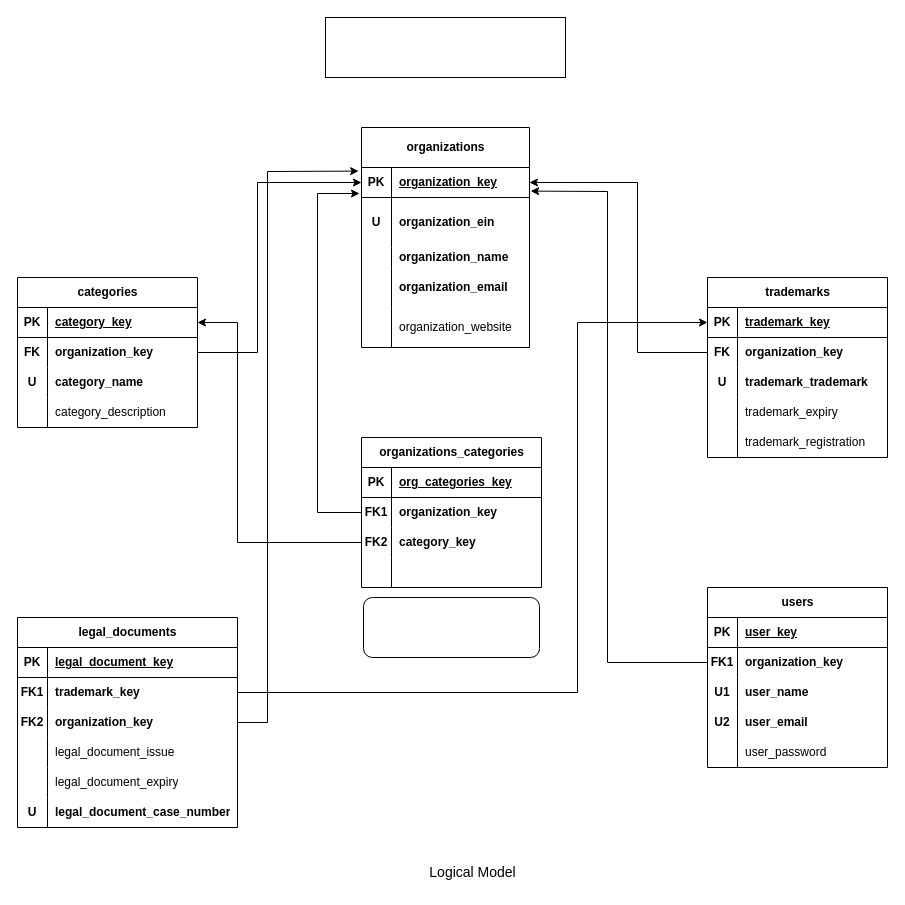
Image size: 905x905. Some labels were removed from this diagram. Here are the shapes that lost their labels. From the top down, the centre of each, then its label:
the point at 445,47: Trademark Traverser Database Management System
the point at 451,627: This is a bridge table between organizations and categories table
